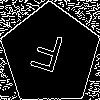F: (25, 30, 66, 82)
